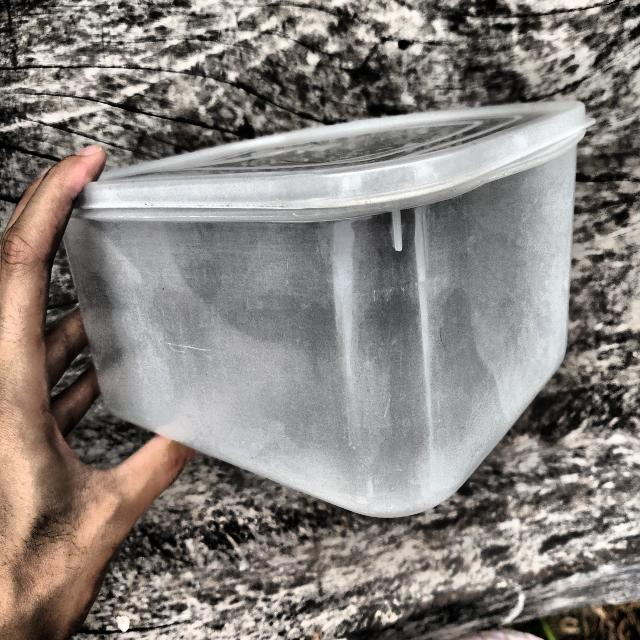plastic container: (61, 108, 586, 511)
